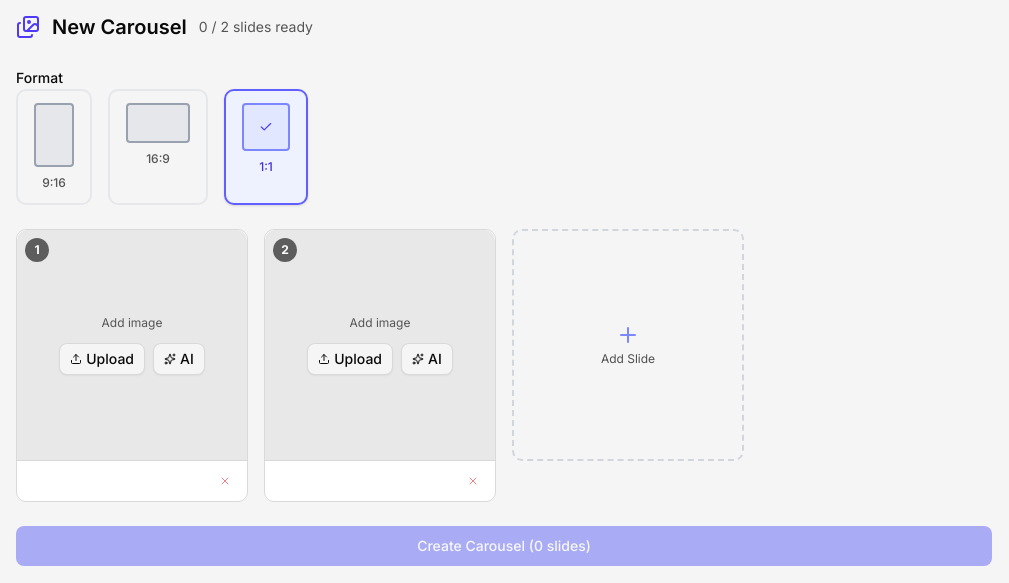
CreateCarouselPage › shows AI prompt textarea when AI button is clicked
The width and height of the screenshot is (1009, 583).
Find the AI text spans and click their parent button
Click the 1st button "AI" at (179, 359), box [153, 343, 205, 375]
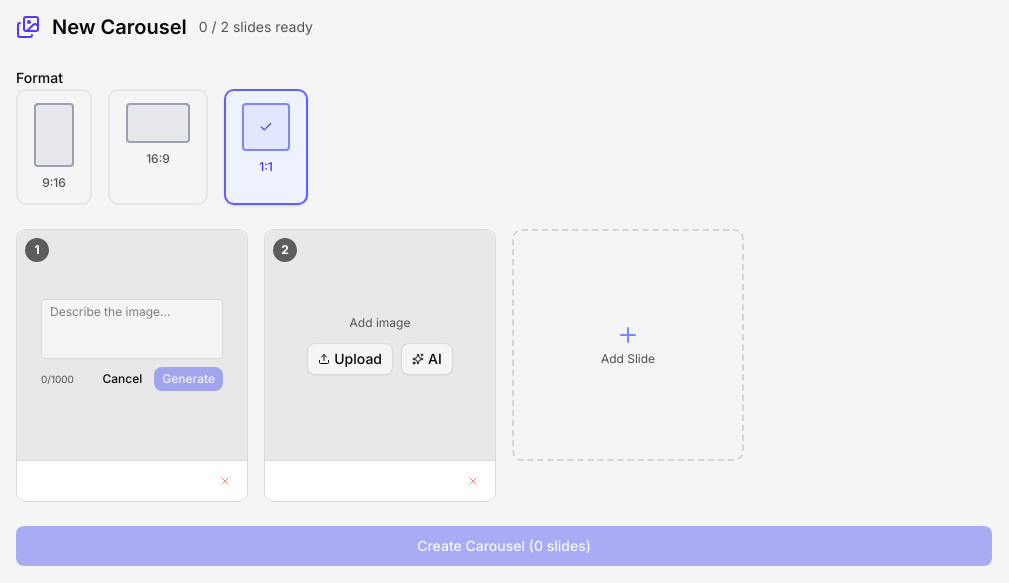
Expected: the text box with placeholder "Describe the image..." is shown, [41, 299, 223, 359]
Expected: the button "Generate" is shown, [154, 367, 223, 391]
Expected: the button "Cancel" is shown, [94, 367, 150, 391]
